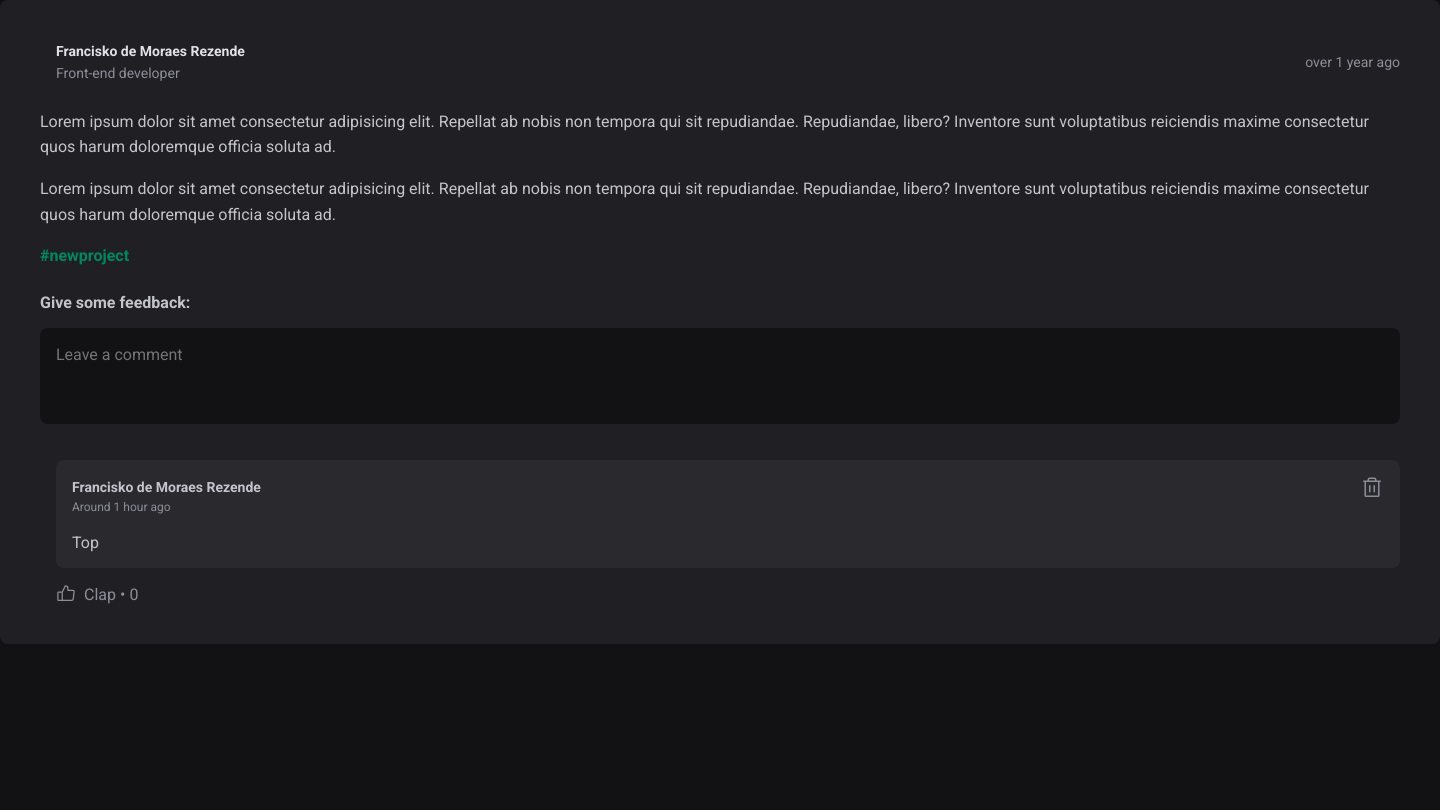
Test: Post › should add new posts
In the text box labelled "Give some feedback:": (720, 376) [40,328,1400,424], type "new comment"
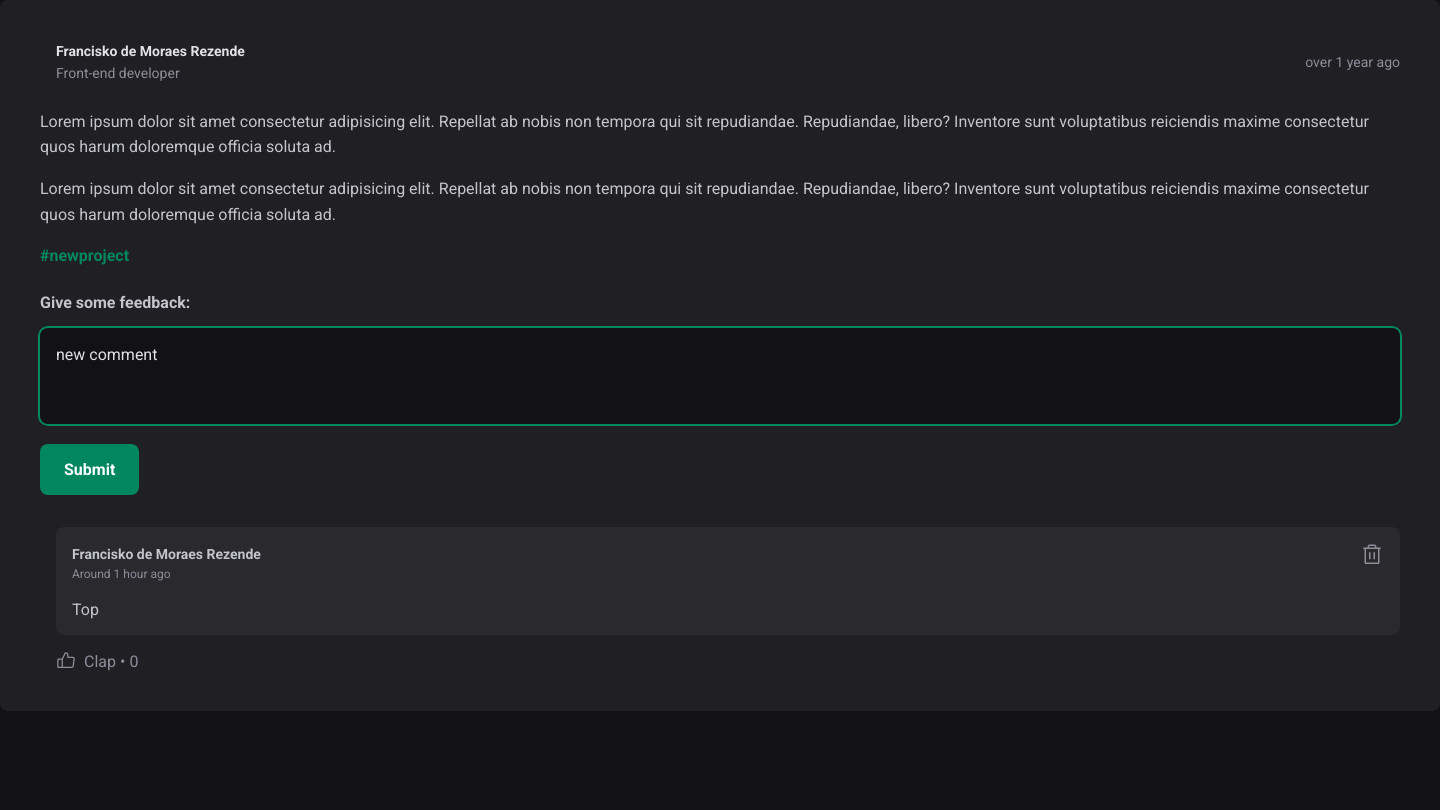
Click the button "Submit": (90, 469) [40,444,139,495]
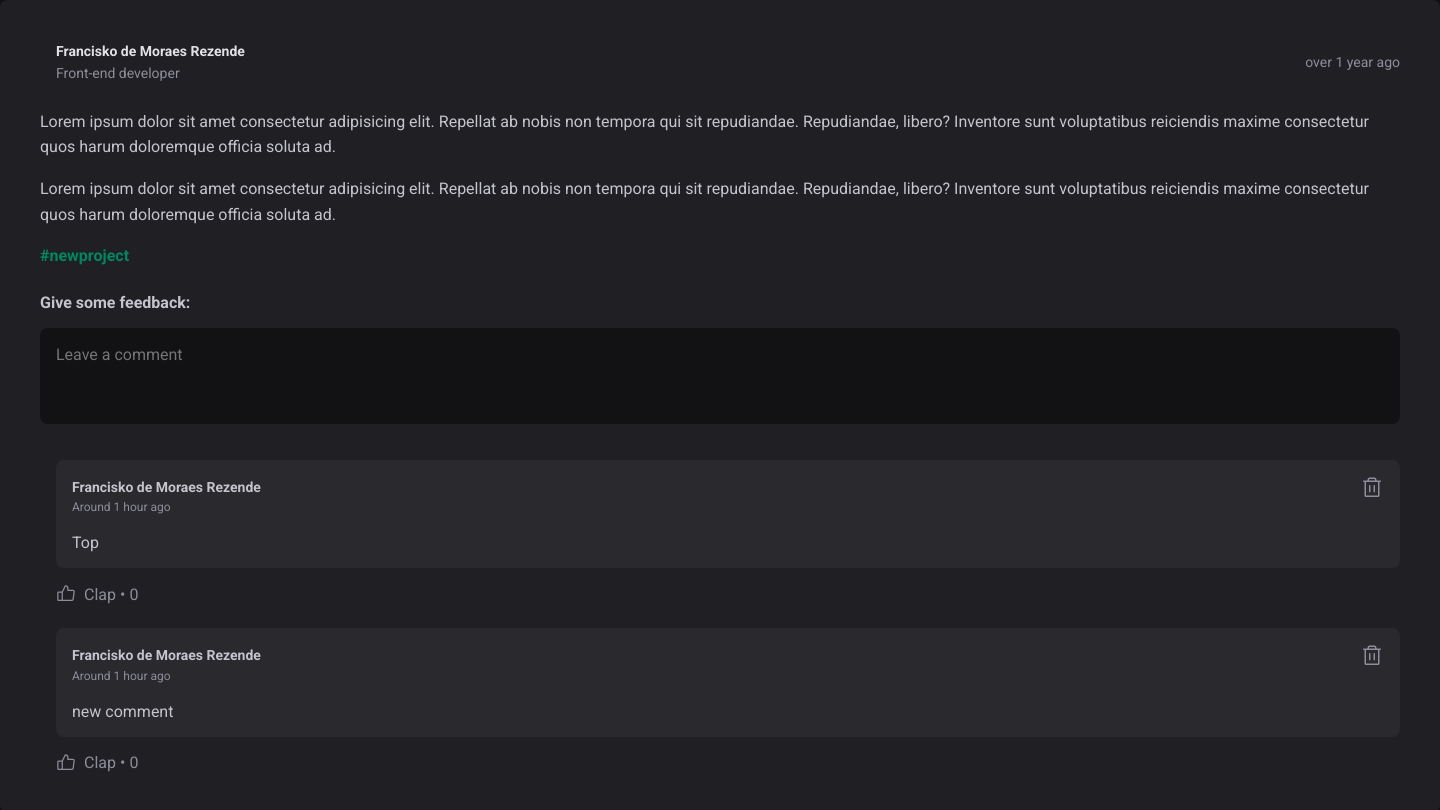
Expected: the text "new comment" is shown, [72,702,173,721]
